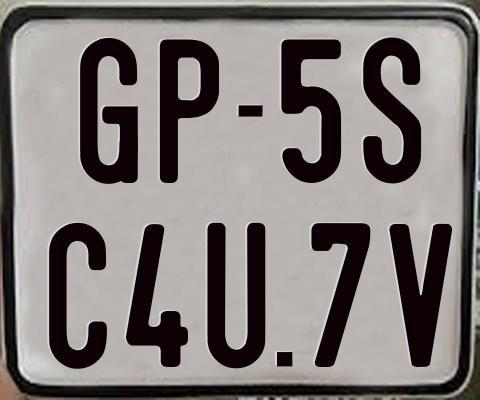4: (124, 221, 189, 369)
5: (280, 39, 340, 188)
7: (310, 220, 374, 368)
C: (46, 222, 105, 370)
G: (79, 38, 138, 189)
P: (159, 38, 218, 182)
S: (360, 34, 419, 183)
U: (207, 220, 271, 371)
V: (387, 224, 452, 370)
